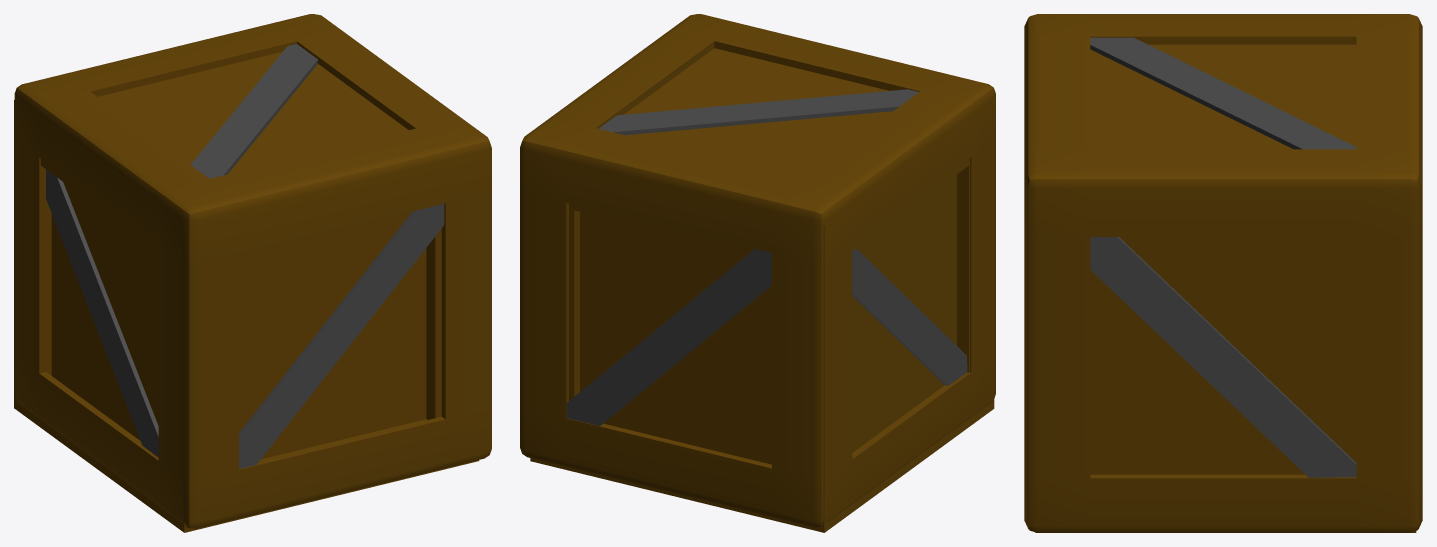
The model's file is CRATE.fbx.
3 renders of one model, left to right at view 1: azimuth 30°, elevation 25°; view 2: azimuth 150°, elevation 25°; view 3: azimuth 270°, elevation 25°, orthographic. The views are drawn at different scales.
Visible parts, largest first — view 1: polySurface7.001; view 2: polySurface7.001; view 3: polySurface7.001.
Part boxes in pixels (left/top/right/bottom): polySurface7.001: left=14, top=14, right=491, bottom=532; polySurface7.001: left=520, top=14, right=995, bottom=532; polySurface7.001: left=1024, top=14, right=1422, bottom=532.
Bounding box in the file's own units: 239 × 240 × 239.
